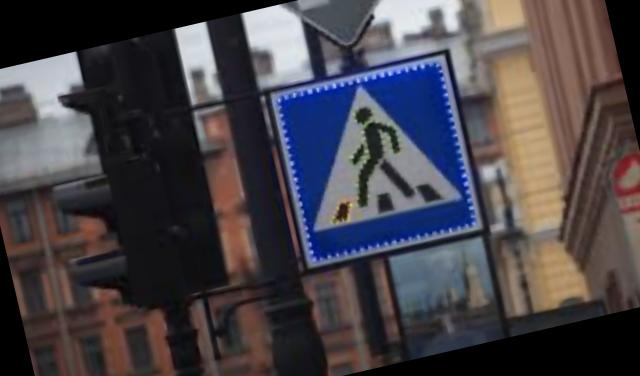crosswalk-sign: (265, 47, 495, 275)
